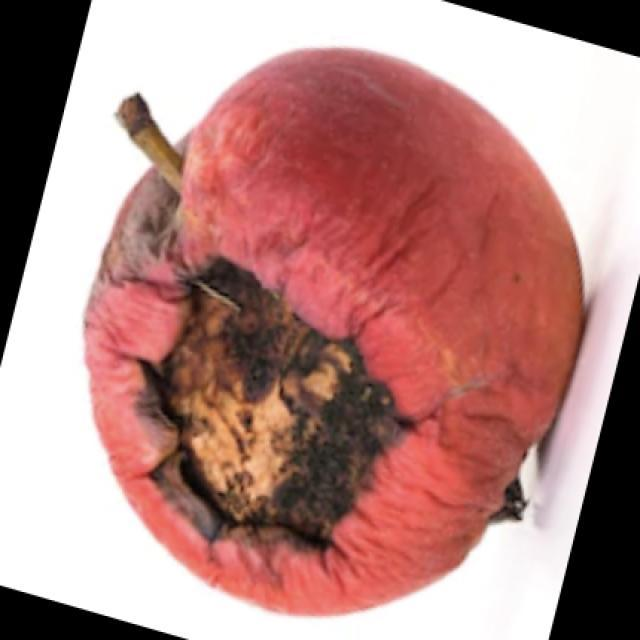Rotten: (87, 47, 585, 615)
